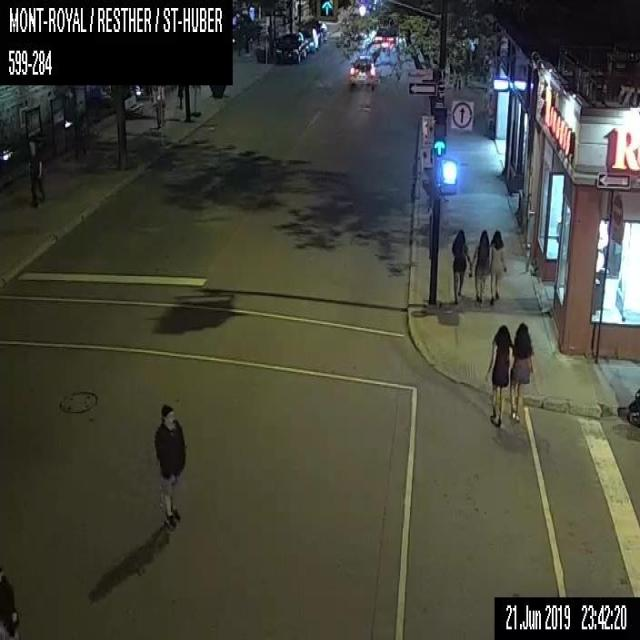pedestrian: (153, 404, 185, 533), (486, 321, 512, 424), (509, 322, 534, 422), (450, 227, 470, 305), (0, 565, 19, 639), (471, 228, 489, 306), (489, 228, 506, 304), (27, 138, 46, 206), (152, 83, 164, 129), (454, 55, 461, 89), (449, 57, 453, 83)
vehicle: (274, 32, 304, 63), (348, 55, 376, 87), (374, 26, 395, 48), (306, 19, 326, 42), (300, 27, 318, 51)
